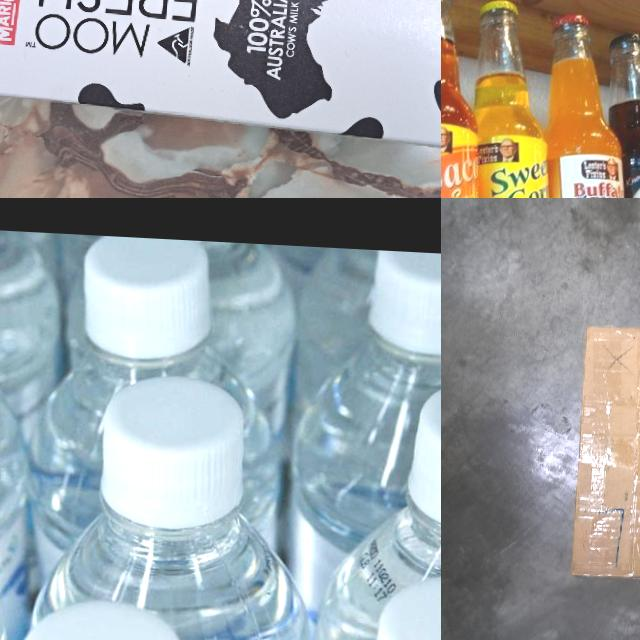caixinha: (0, 0, 441, 151)
garrafa de vidro: (458, 0, 572, 198), (539, 13, 640, 198), (441, 0, 499, 198), (592, 31, 640, 198)
papelão: (570, 323, 640, 586)
tampa plástica: (95, 372, 250, 534), (76, 234, 215, 364), (14, 594, 195, 640), (364, 250, 441, 358), (403, 375, 441, 540)
